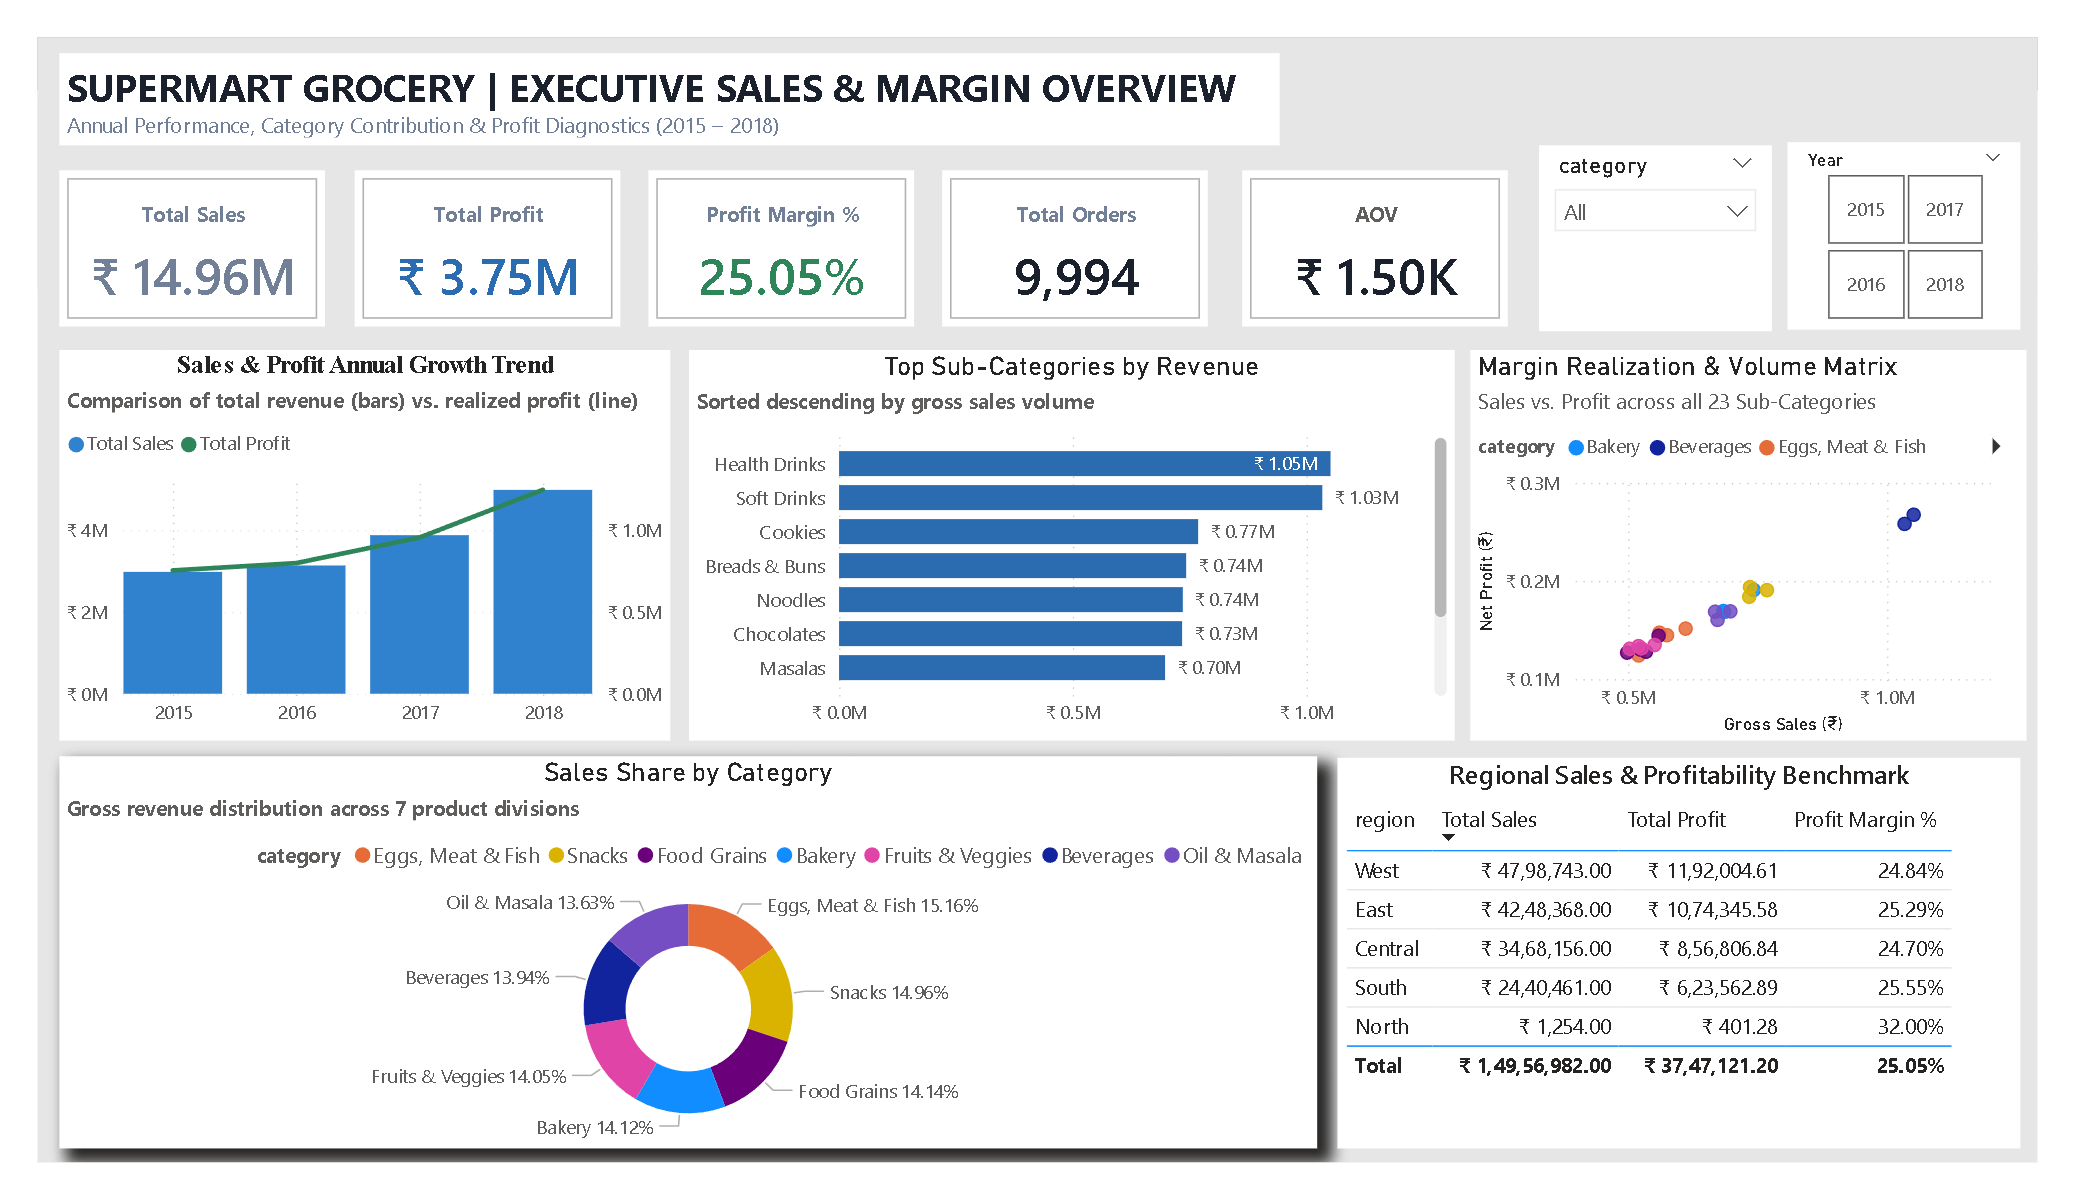

Layout of this report page (visuals, bound fields, positions):
{"tool":"powerbi","page":{"name":"Executive Sales & Margin","canvas":[1280,720],"ordinal":0},"visuals":[{"type":"textbox","box":[13.7,9.6,780.8,59],"z":0},{"type":"slicer","fields":{"Values":["Dim_Date.Year"]},"box":[1119.7,67.2,149.6,119.4],"z":1000},{"type":"slicer","fields":{"Values":["supermart_sales.category"]},"box":[960.6,68.6,149.6,119.4],"z":2000},{"type":"cardVisual","fields":{"Data":["_Measures.Total Sales"]},"box":[13.7,85,170,100],"z":3000},{"type":"cardVisual","fields":{"Data":["_Measures.Total Profit"]},"box":[203.1,85,170.2,100.2],"z":4000},{"type":"cardVisual","fields":{"Data":["_Measures.Profit Margin %"]},"box":[391.1,85,170.2,100.2],"z":5000},{"type":"cardVisual","fields":{"Data":["_Measures.Total Orders"]},"box":[579.1,85,170.2,100.2],"z":6000},{"type":"cardVisual","fields":{"Data":["_Measures.Average Order Value"]},"box":[771.2,85,170.2,100.2],"z":7000},{"type":"lineClusteredColumnComboChart","title":"Sales & Profit Annual Growth Trend","fields":{"Category":["Dim_Date.Year"],"Y":["_Measures.Total Sales"],"Y2":["_Measures.Total Profit"]},"box":[13.7,200.3,391.1,249.7],"z":8000},{"type":"donutChart","title":"Sales Share by Category","fields":{"Category":["supermart_sales.category"],"Y":["_Measures.Total Sales"]},"box":[13.7,459.7,805.5,251.1],"z":9000},{"type":"clusteredBarChart","title":"Top Sub-Categories by Revenue","fields":{"Category":["supermart_sales.sub_category"],"Y":["_Measures.Total Sales"]},"box":[417.2,200.3,489.9,249.7],"z":10000},{"type":"scatterChart","title":"Margin Realization & Volume Matrix","fields":{"X":["_Measures.Total Sales"],"Y":["_Measures.Total Profit"],"Category":["supermart_sales.sub_category"],"Series":["supermart_sales.category"]},"box":[916.6,200.3,356.8,249.7],"z":11000},{"type":"tableEx","title":"Regional Sales & Profitability Benchmark","fields":{"Values":["supermart_sales.region","_Measures.Total Sales","_Measures.Total Profit","_Measures.Profit Margin %"]},"box":[831.6,461.1,437.7,249.7],"z":12000}]}

Visuals, with their boxes on the page's 1280x720 design canvas (x1, y1, x2, y2). These are canvas units, not pixel positions in the 2075x1200 screenshot, which may show the page scaled, cropped or inside an application window:
textbox: region(14, 10, 794, 69)
slicer - Dim_Date.Year: region(1120, 67, 1269, 187)
slicer - supermart_sales.category: region(961, 69, 1110, 188)
cardVisual - _Measures.Total Sales: region(14, 85, 184, 185)
cardVisual - _Measures.Total Profit: region(203, 85, 373, 185)
cardVisual - _Measures.Profit Margin %: region(391, 85, 561, 185)
cardVisual - _Measures.Total Orders: region(579, 85, 749, 185)
cardVisual - _Measures.Average Order Value: region(771, 85, 941, 185)
"Sales & Profit Annual Growth Trend" lineClusteredColumnComboChart: region(14, 200, 405, 450)
"Sales Share by Category" donutChart: region(14, 460, 819, 711)
"Top Sub-Categories by Revenue" clusteredBarChart: region(417, 200, 907, 450)
"Margin Realization & Volume Matrix" scatterChart: region(917, 200, 1273, 450)
"Regional Sales & Profitability Benchmark" tableEx: region(832, 461, 1269, 711)
